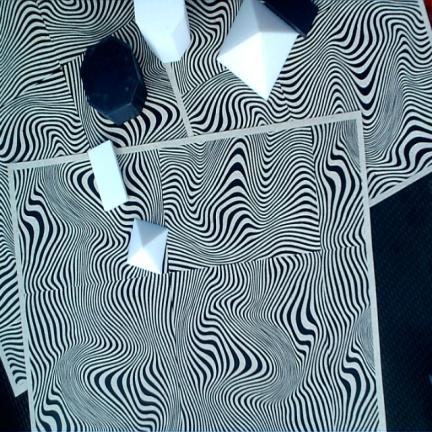Paralelepipedo: (87, 140, 129, 212), (265, 0, 318, 37)
Piramide: (217, 0, 299, 102), (127, 218, 168, 274)
Prisma_hexagonal: (80, 36, 147, 125), (134, 0, 191, 63)
